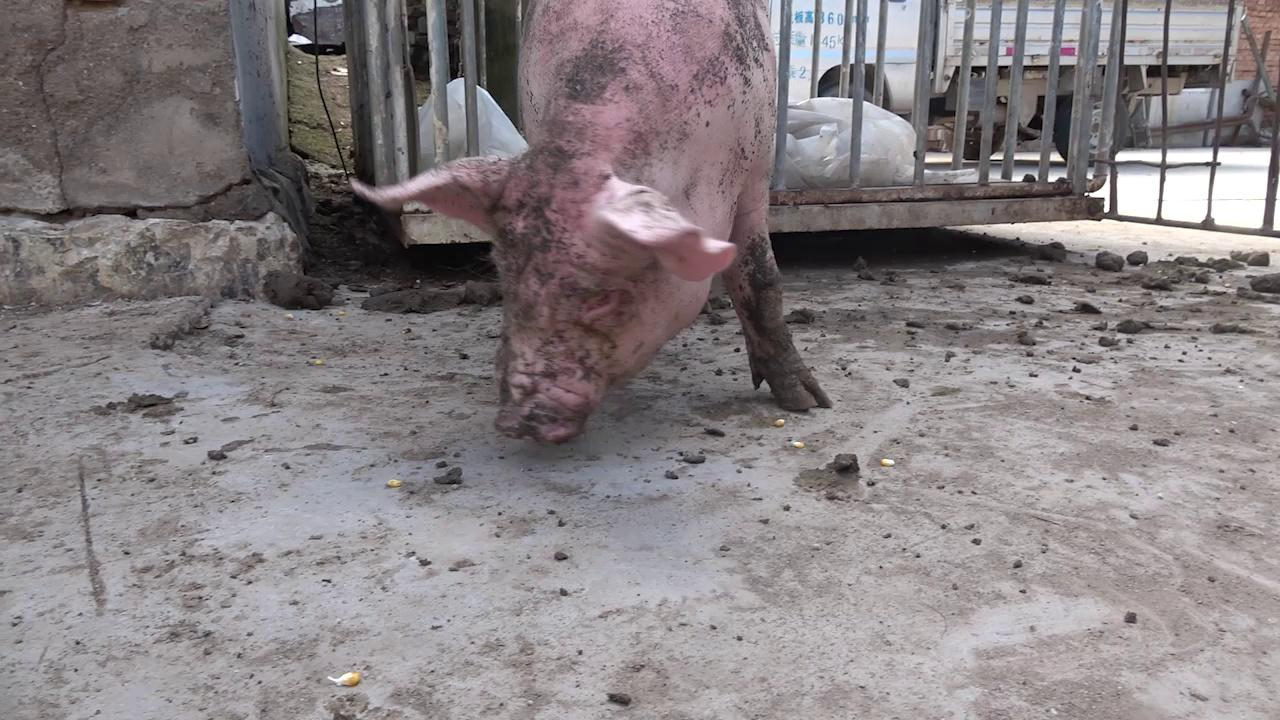Face: (339, 147, 760, 458)
